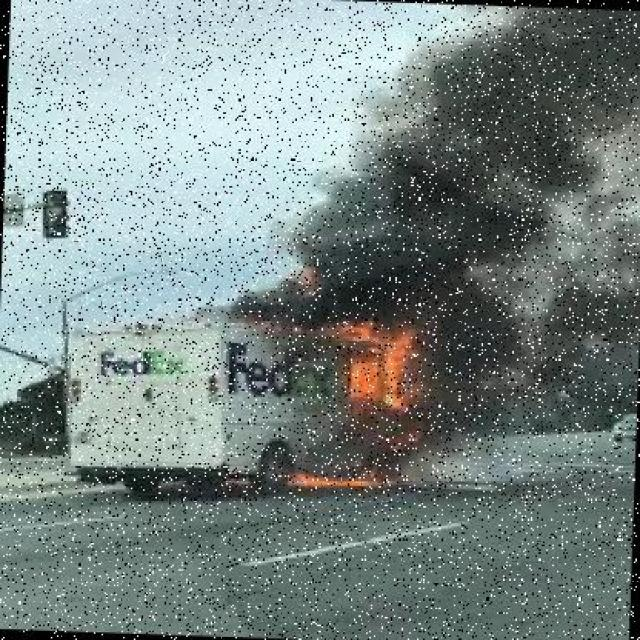fire: (265, 284, 463, 493)
